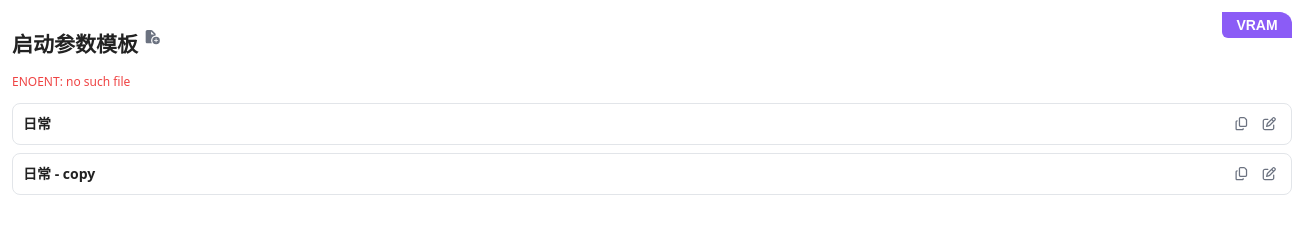
Test: TemplateModule › copying_a_copy_strips_suffix_and_increments_number
# 点「日常 - copy」行（第二行）的复制
Click the button named "复制" in the row of "日常 - copy". click: [1241, 174]
box: 1229,162 -> 1253,186
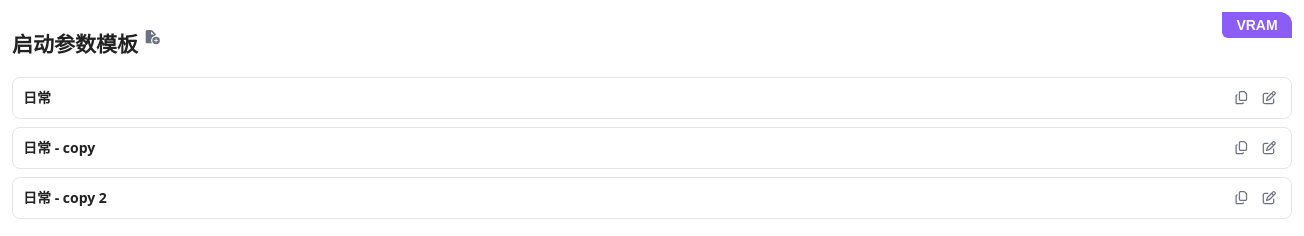
Now the number of elements with class "tpl-row" is 3, box 12,77 -> 1292,119; 12,127 -> 1292,169; 12,177 -> 1292,219
Now the element with class "tpl-row" reads "日常 - copy 2", box 23,188 -> 107,207
